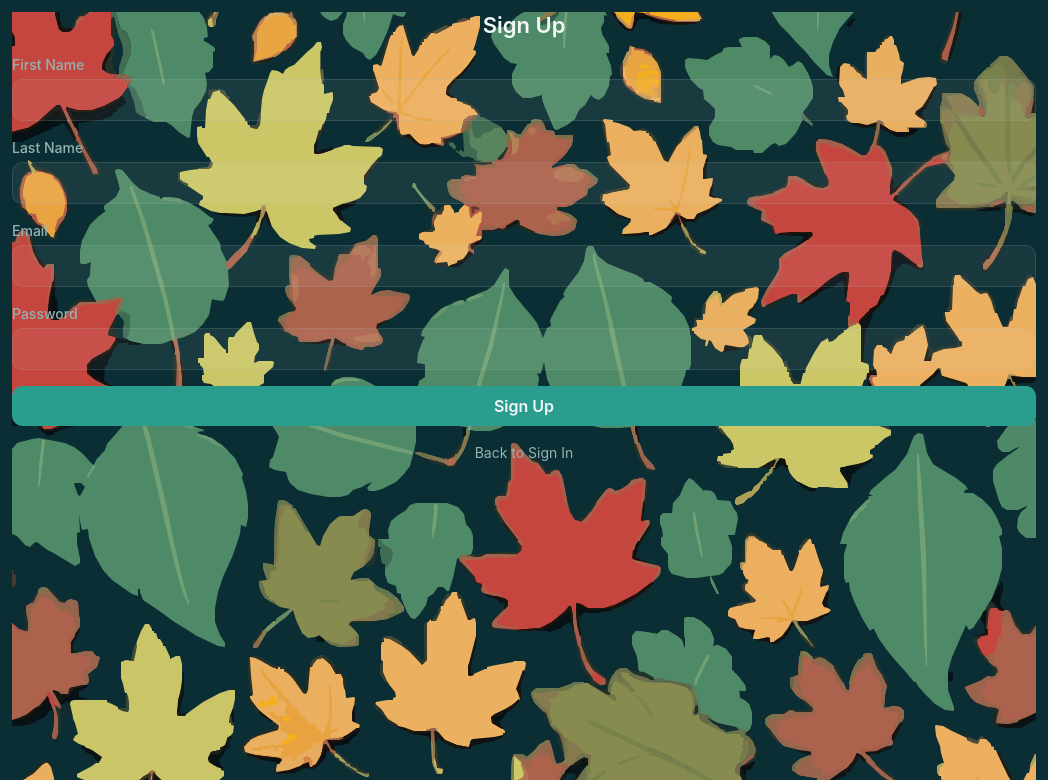
SignUp › shows an error message and stays on the page when sign up fails
Type "Jane" into the field labelled "First Name" at x=524, y=100, box 12,79 -> 1036,121
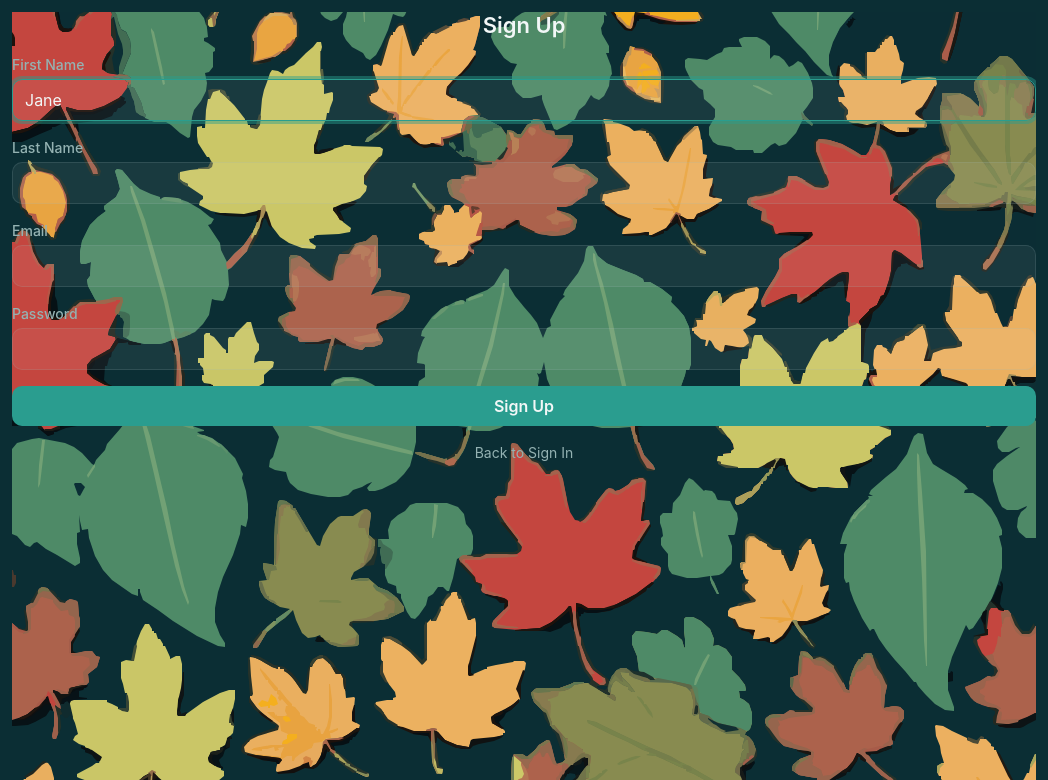
Type "Doe" into the field labelled "Last Name" at x=524, y=183, box 12,162 -> 1036,204
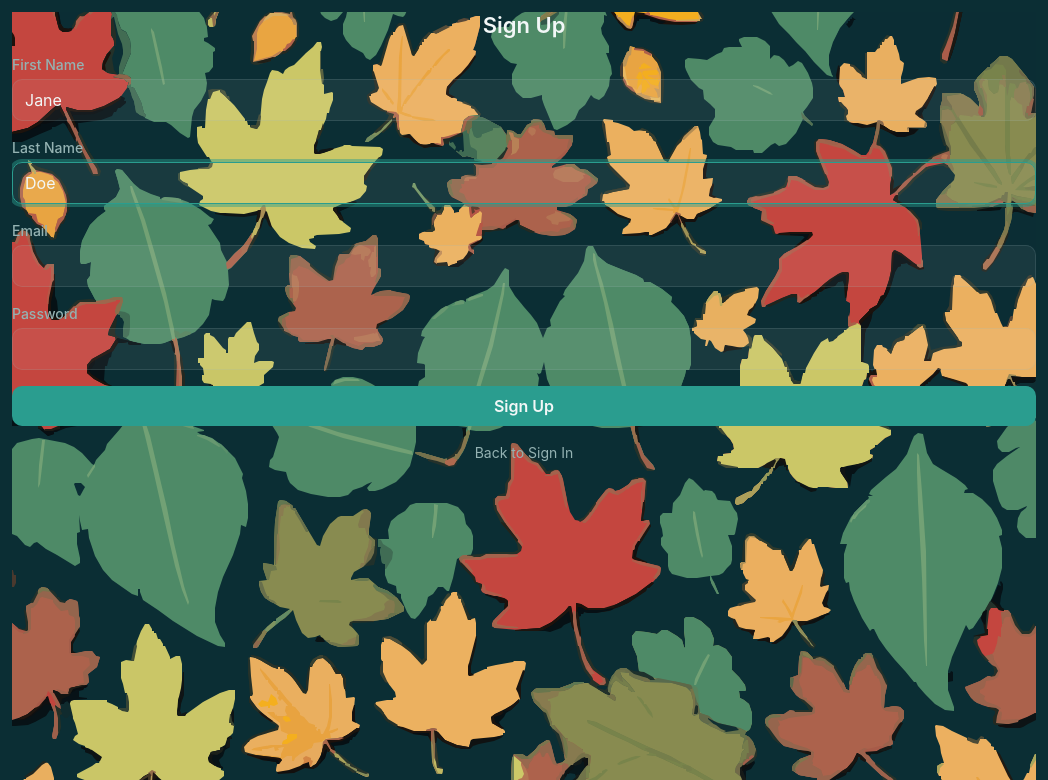
Type "jane@example.com" into the field labelled "Email" at x=524, y=266, box 12,245 -> 1036,287
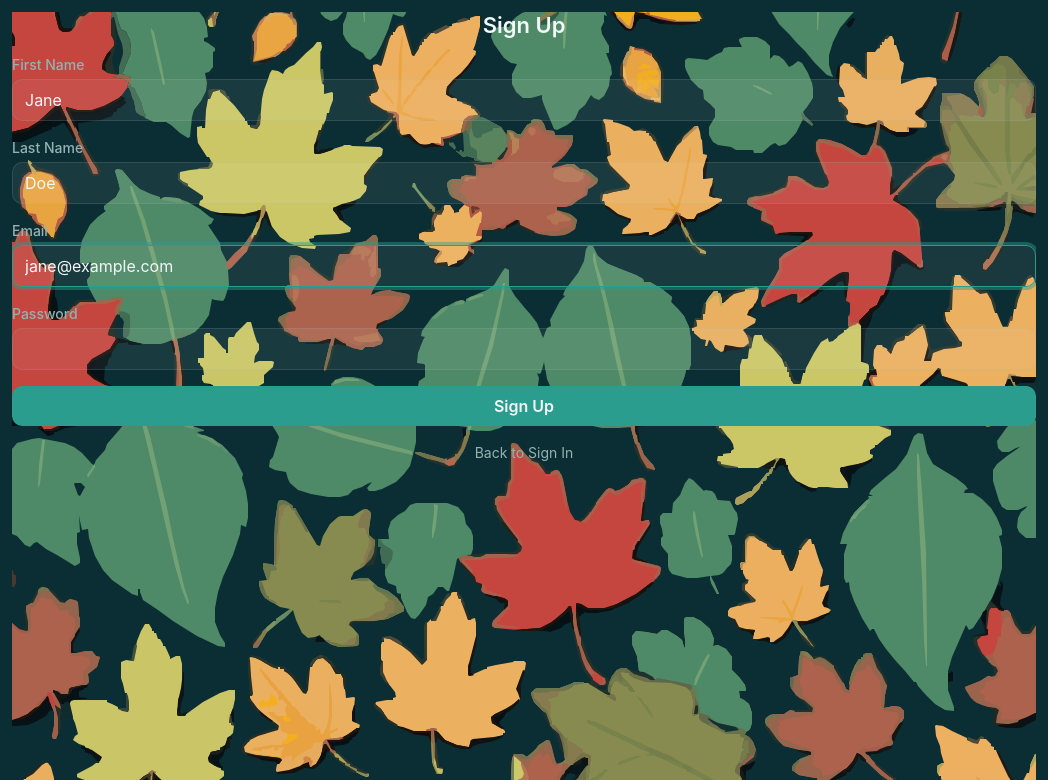
Type "hunter2024" into the password field labelled "Password" at x=524, y=349, box 12,328 -> 1036,370
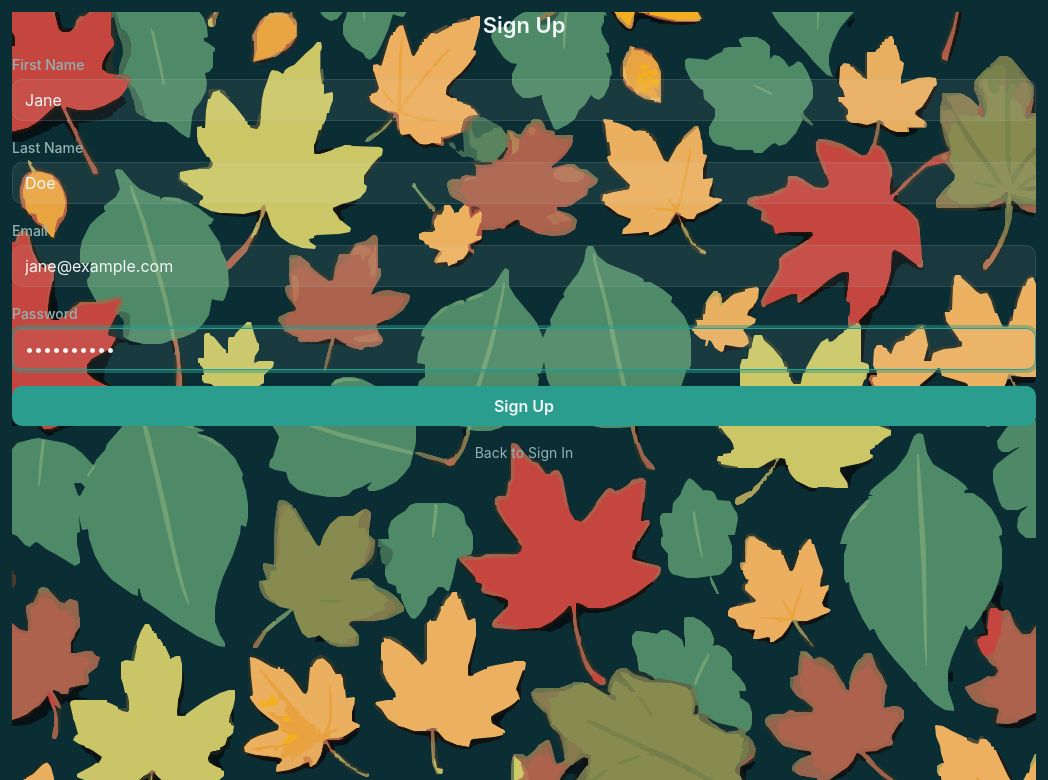
Click the button "Sign Up" at x=524, y=406, box 12,386 -> 1036,426
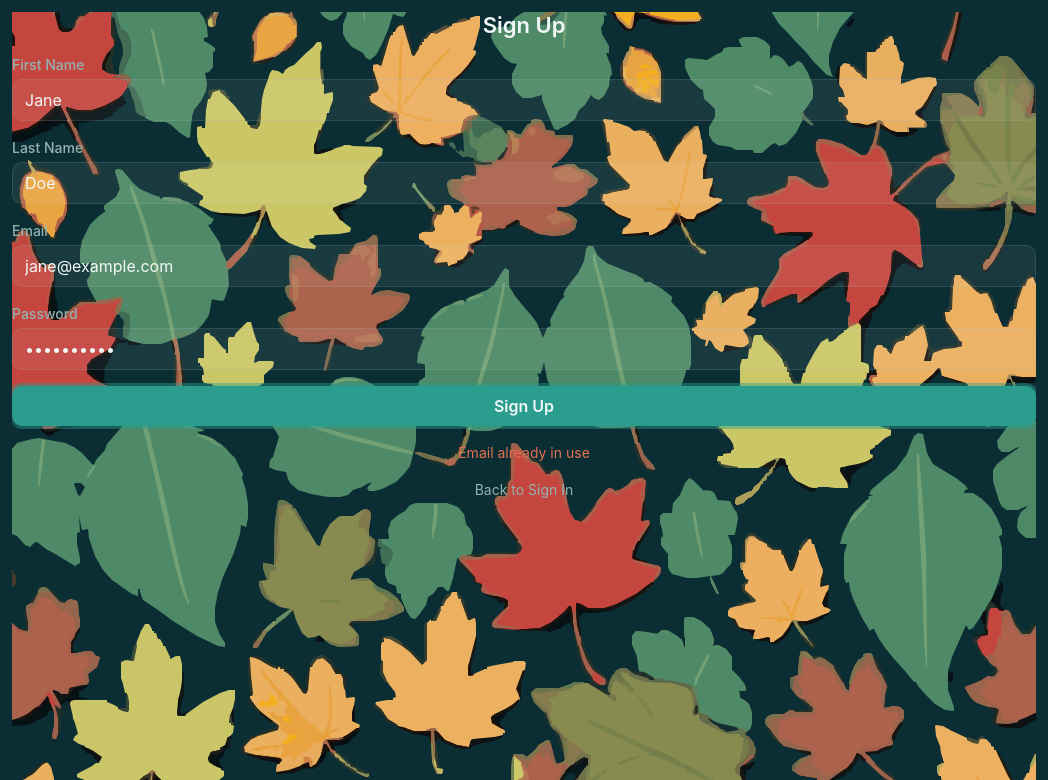
Now the text "Email already in use" is shown, box 458,444 -> 590,461
